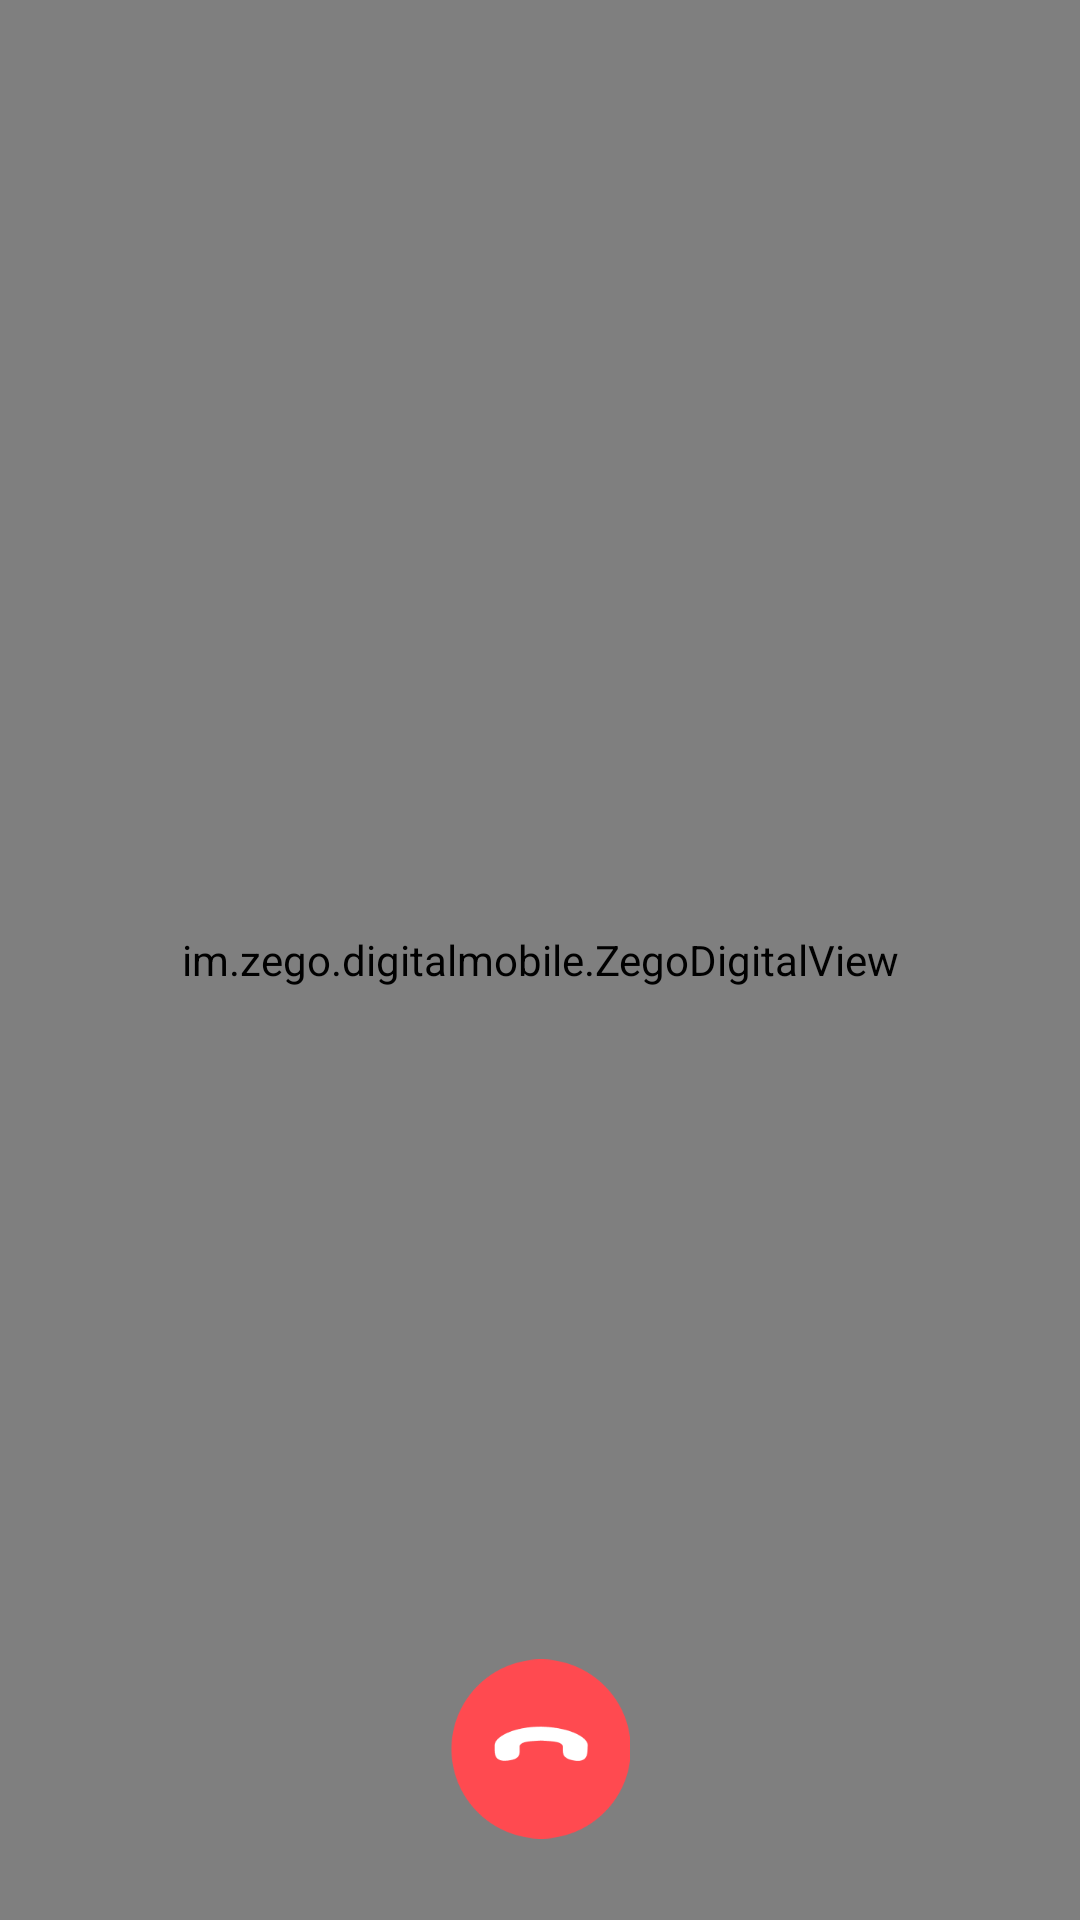

Where to tap for icons on this 1080×1920 app screen, as point (x, y):
hangup: point (540, 1749)
